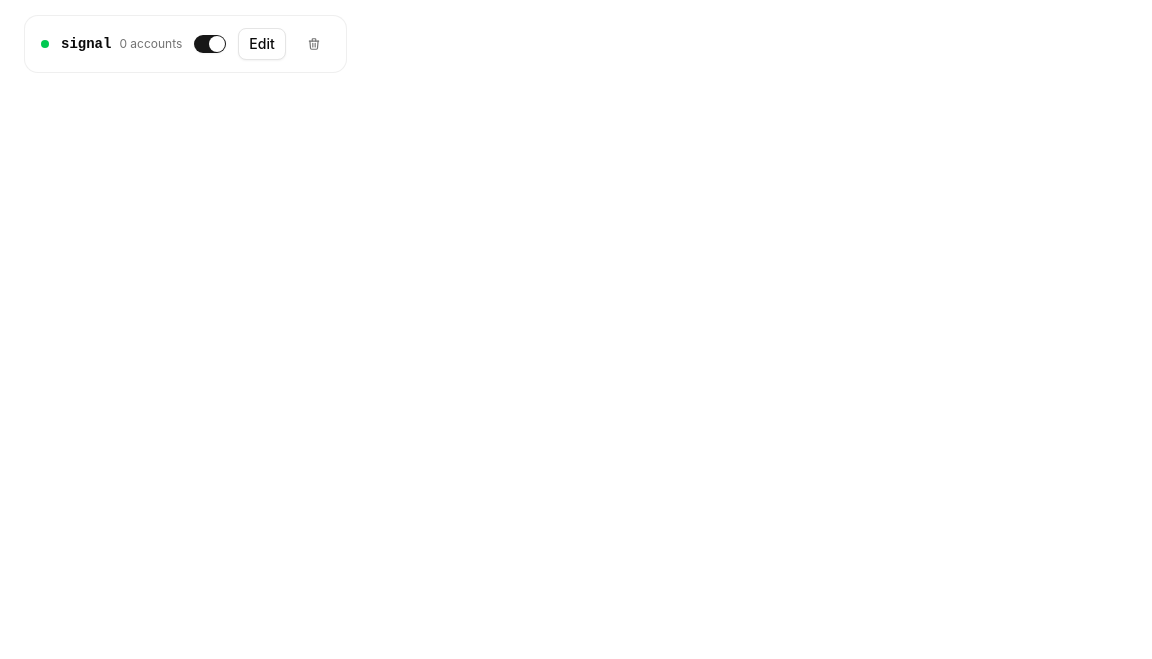
SecMsgPage delete buttons › names each account on its remove button
Expected: the button named "Delete signal" is shown, [298,28,330,60]
What coordinates should you click on to do the following:
click the button "Edit"
I would click on:
 (262, 44)
Its box is [238,28,286,60].
(page scrolled)
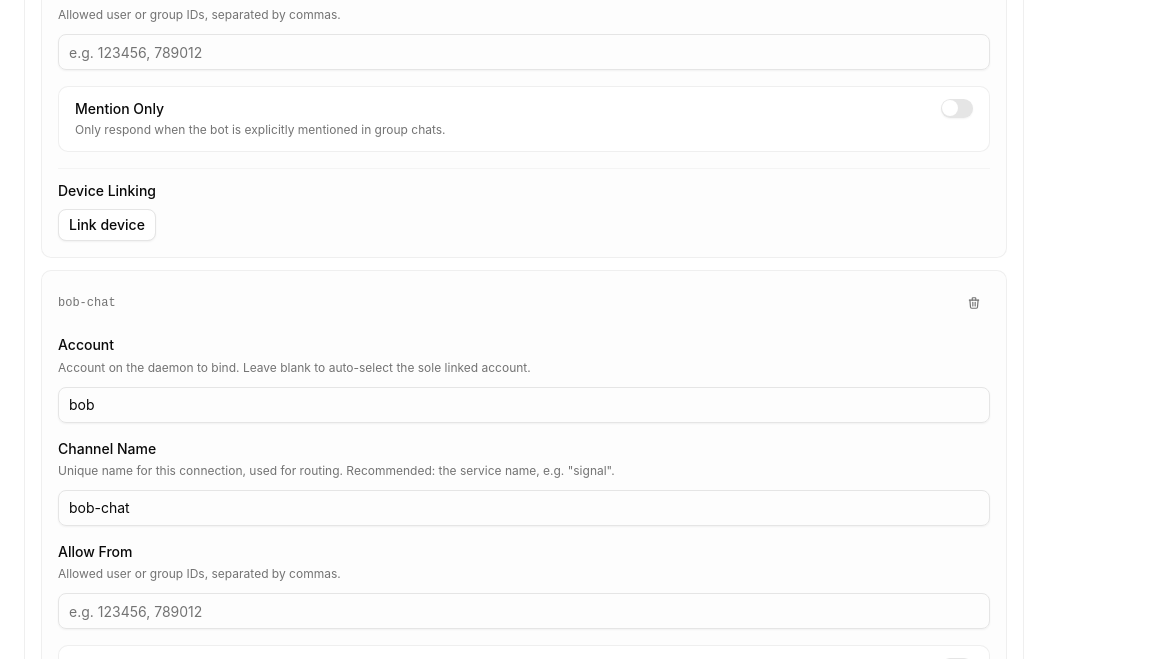
Result: the button named "Remove account bob-chat" is shown at [958,287,990,319]
